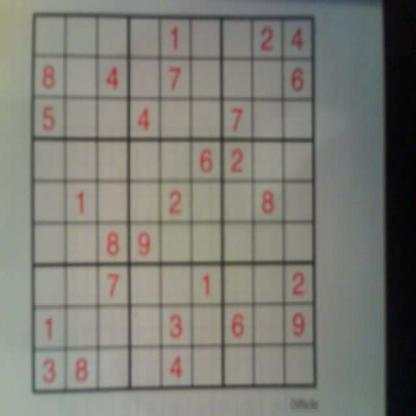sudoku: (27, 6, 322, 397)
